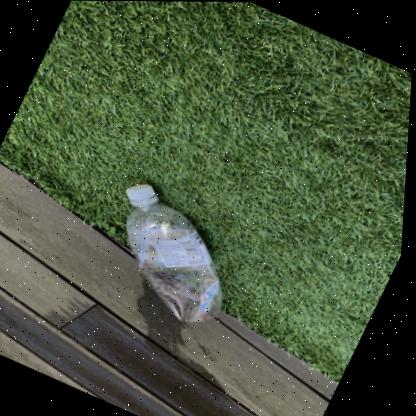Plastic: (127, 184, 225, 321)
